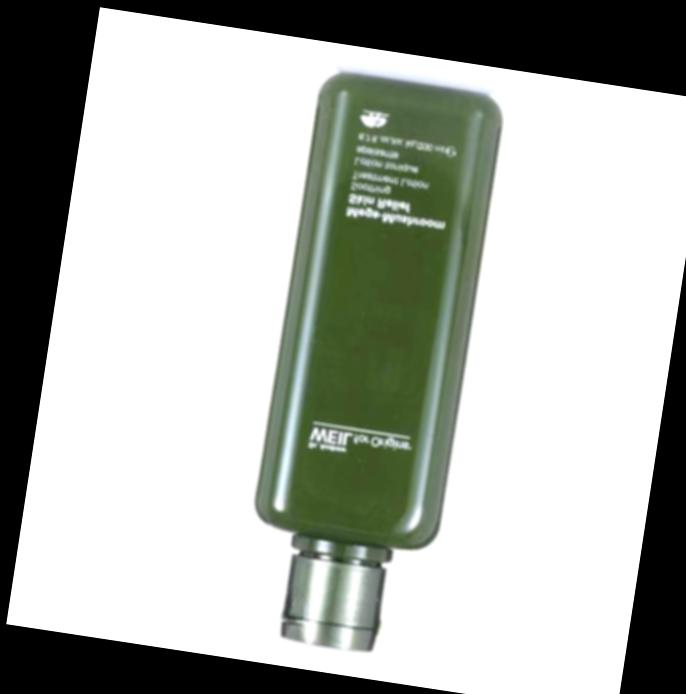cosmetic: (231, 64, 508, 668)
